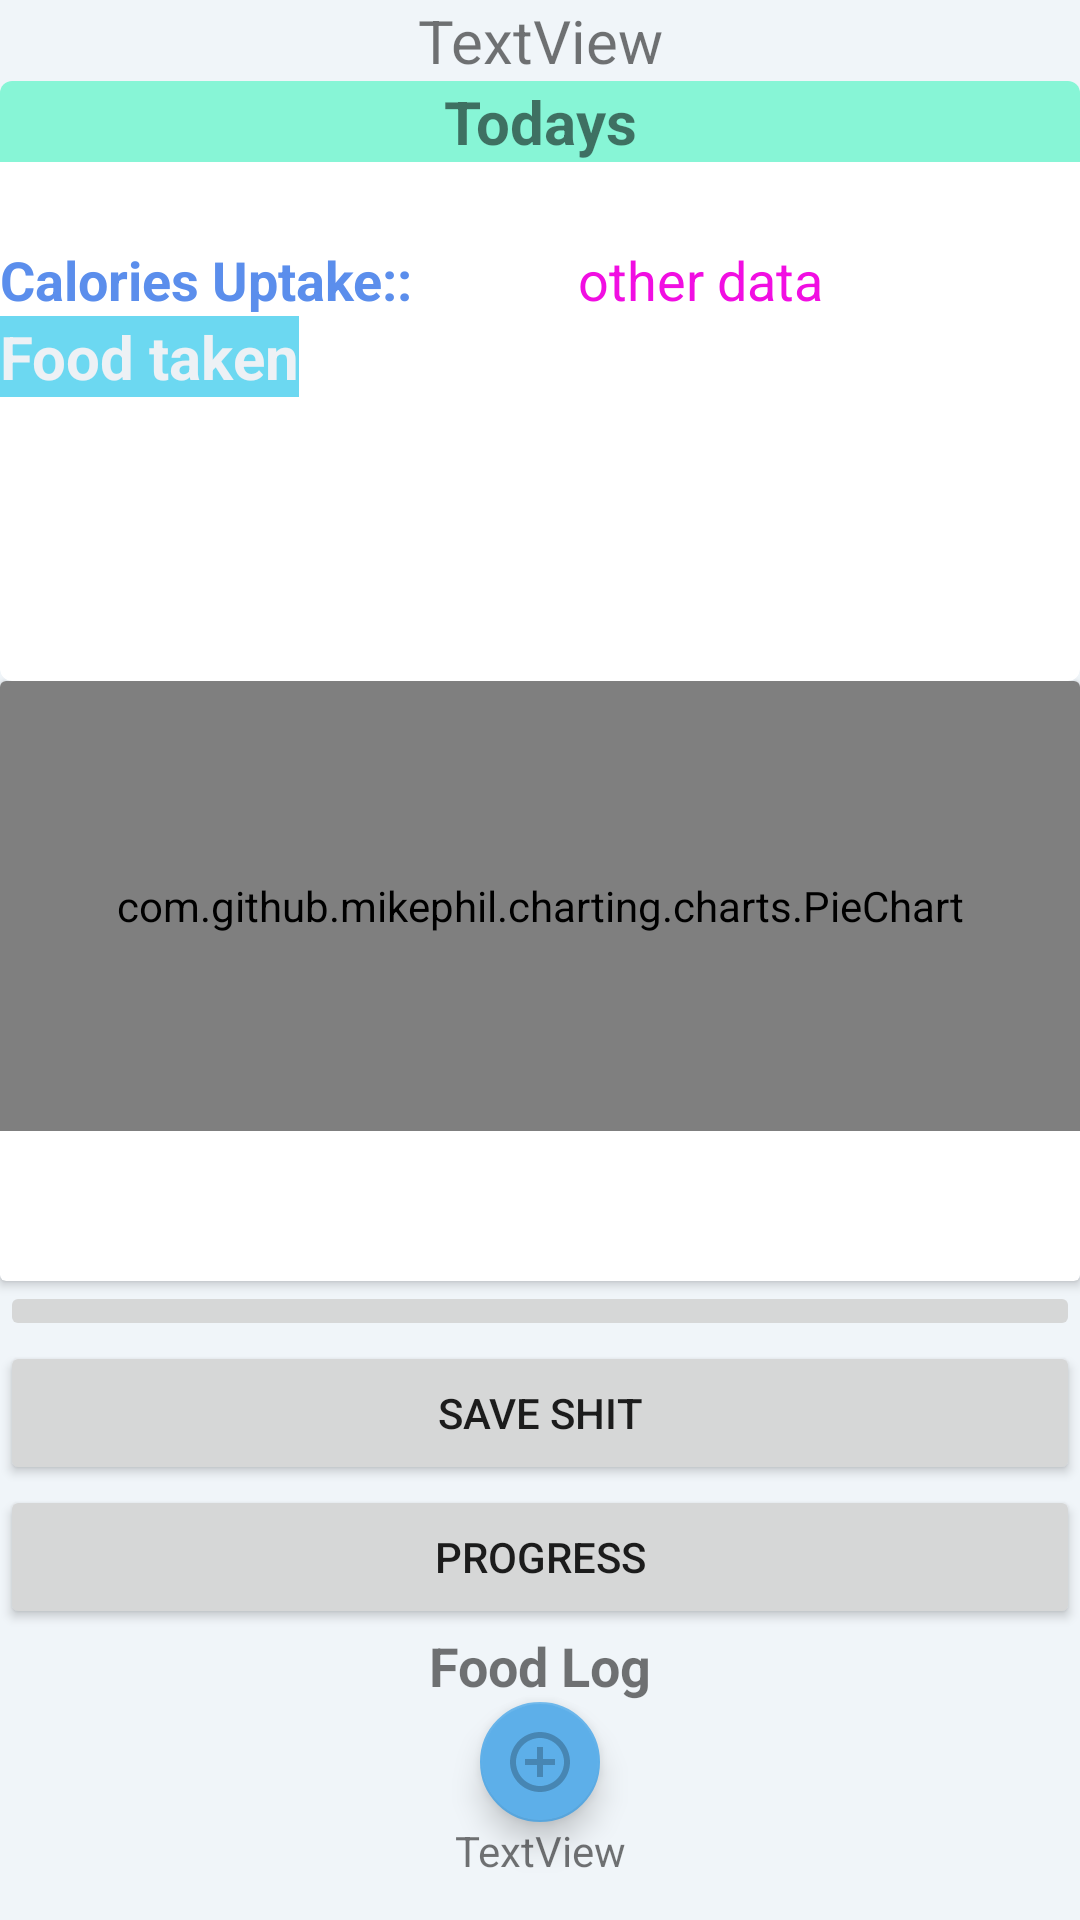

Locate icon controls on the screen. Image size 1080px x 1920px, boxes as (x1, y1, x2, y2).
add: (480, 1702, 600, 1822)
